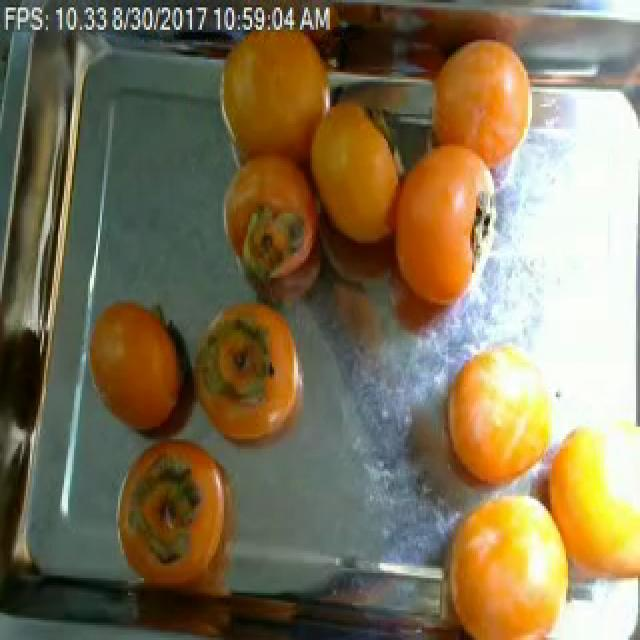Fruit: (104, 427, 256, 612), (420, 474, 582, 640), (176, 283, 316, 469), (434, 322, 574, 508), (206, 12, 348, 188), (418, 20, 542, 191), (78, 286, 202, 447)
